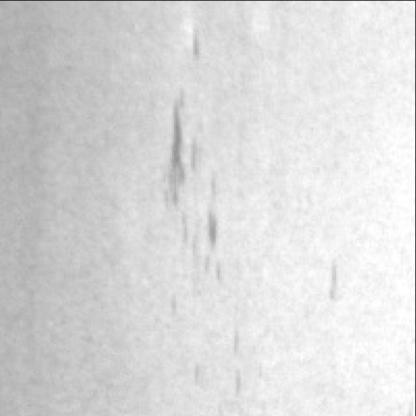inclusion: (177, 174, 235, 302), (160, 90, 208, 216)
